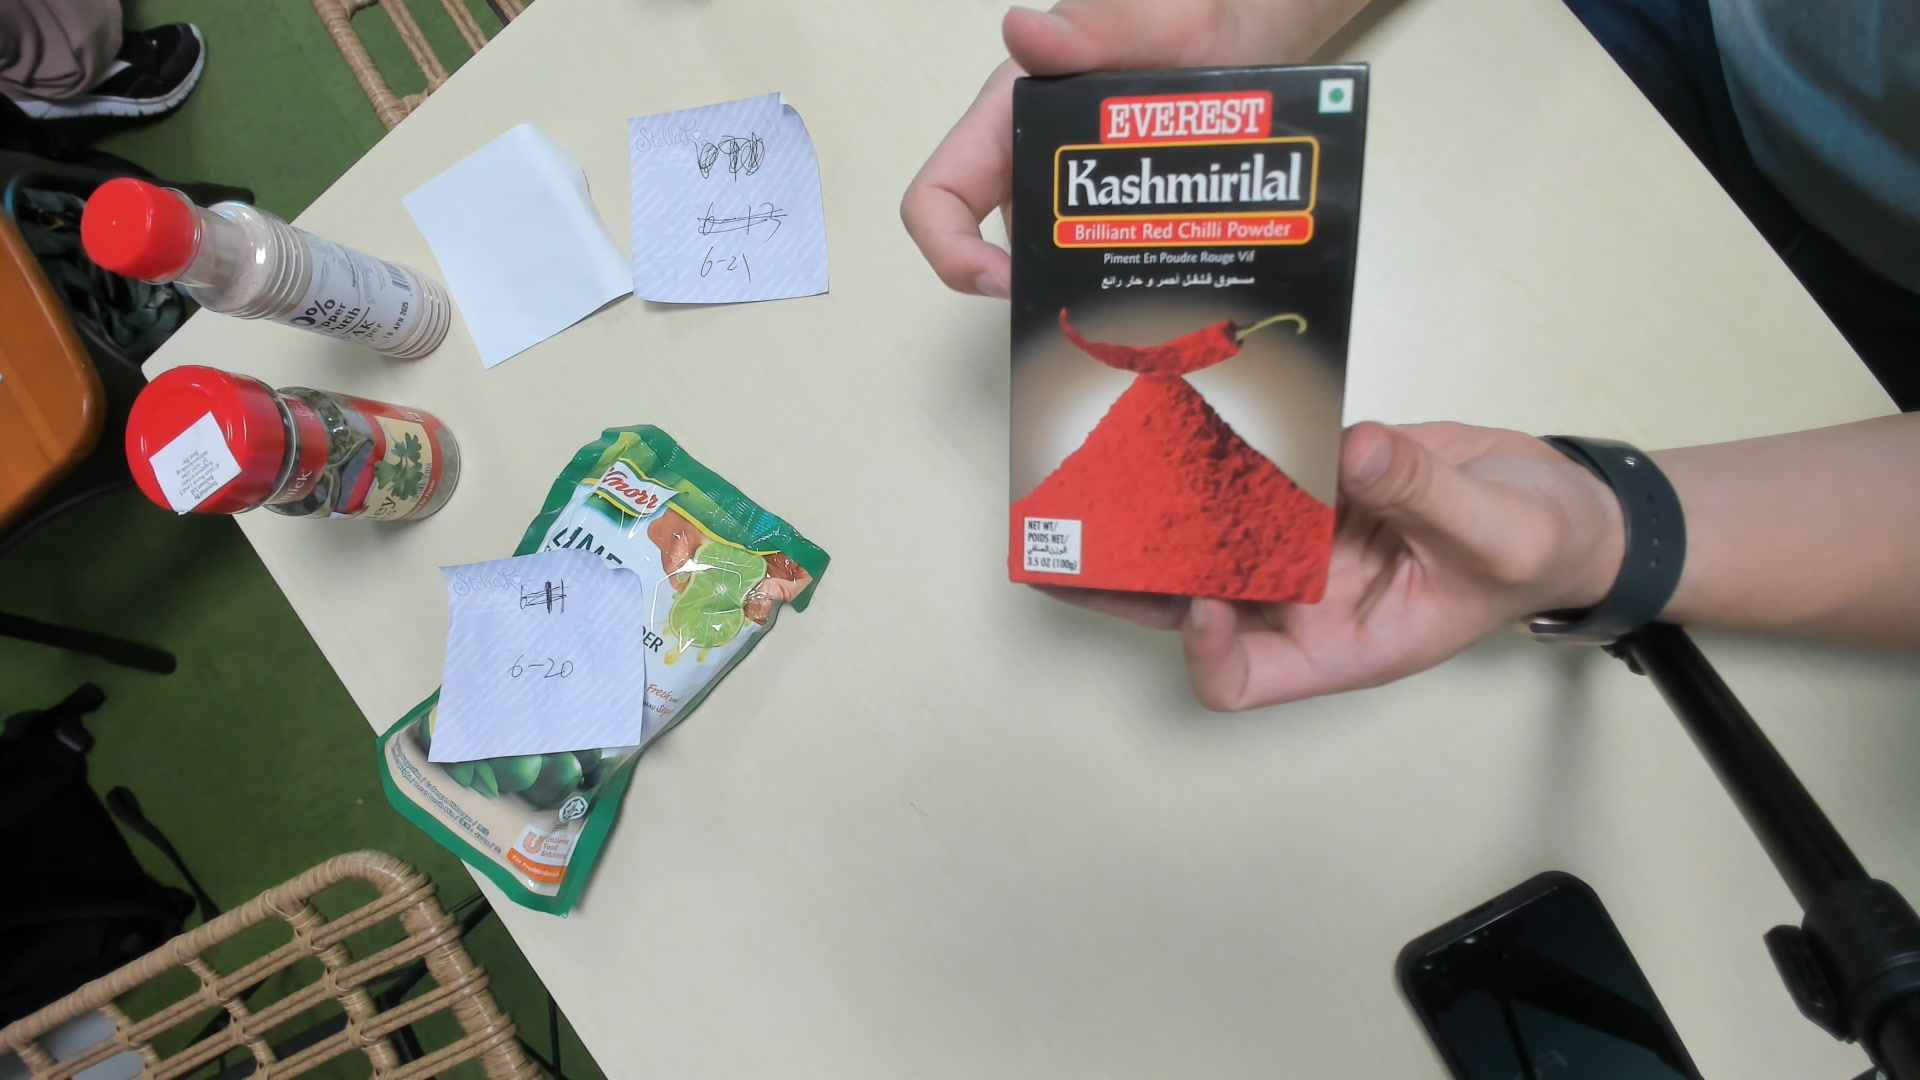HerbsSpicesPepper_100-199g_NonHalal_NonHealthy: (1007, 73, 1333, 597)
